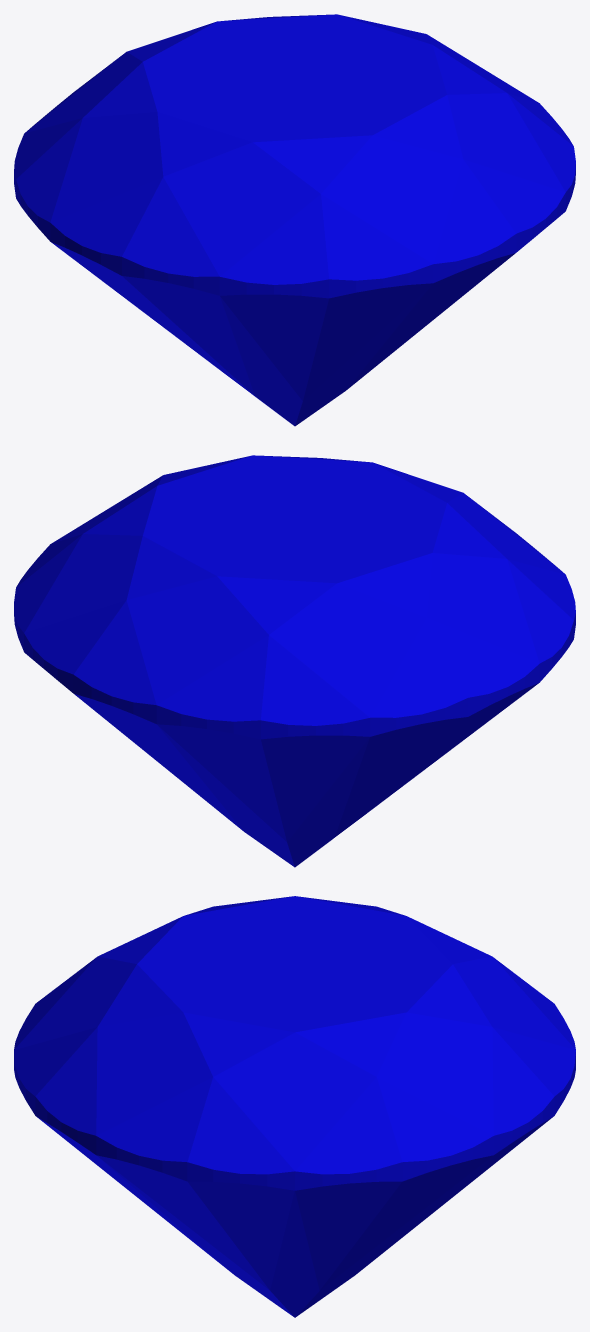
Rendered from Head_Single Halo_Round_1.5ct_Diamond.glb.
3 renders of one model, top to bottom at view 1: azimuth 30°, elevation 25°; view 2: azimuth 150°, elevation 25°; view 3: azimuth 270°, elevation 25°, orthographic.
Size of the model in its own units: 0.00754 by 0.00513 by 0.00738.
